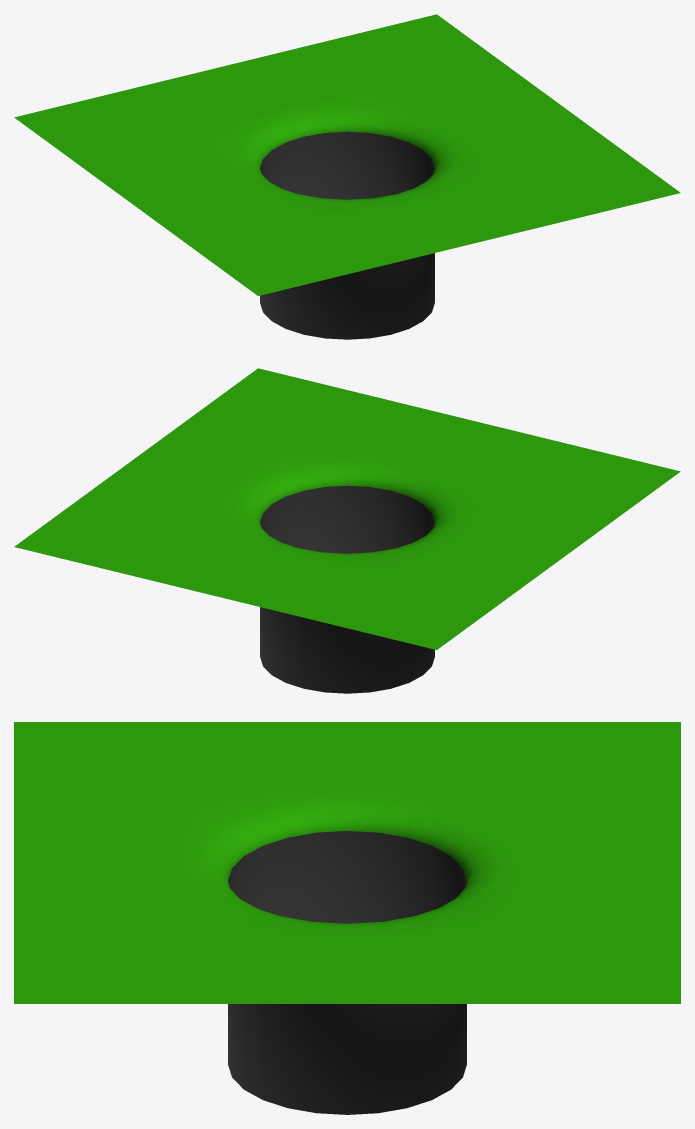
Rendered from golfHole3x.fbx.
3 renders of one model, top to bottom at view 1: azimuth 30°, elevation 25°; view 2: azimuth 150°, elevation 25°; view 3: azimuth 270°, elevation 25°, orthographic. The views are drawn at different scales.
Visible parts, largest first — view 1: golfHole3x; view 2: golfHole3x; view 3: golfHole3x.
Boxes of the visible parts, x1=… form: golfHole3x: x1=14, y1=14, x2=680, y2=339; golfHole3x: x1=14, y1=368, x2=680, y2=693; golfHole3x: x1=14, y1=722, x2=680, y2=1114.
Size of the model in its own units: 300 by 100 by 300.
